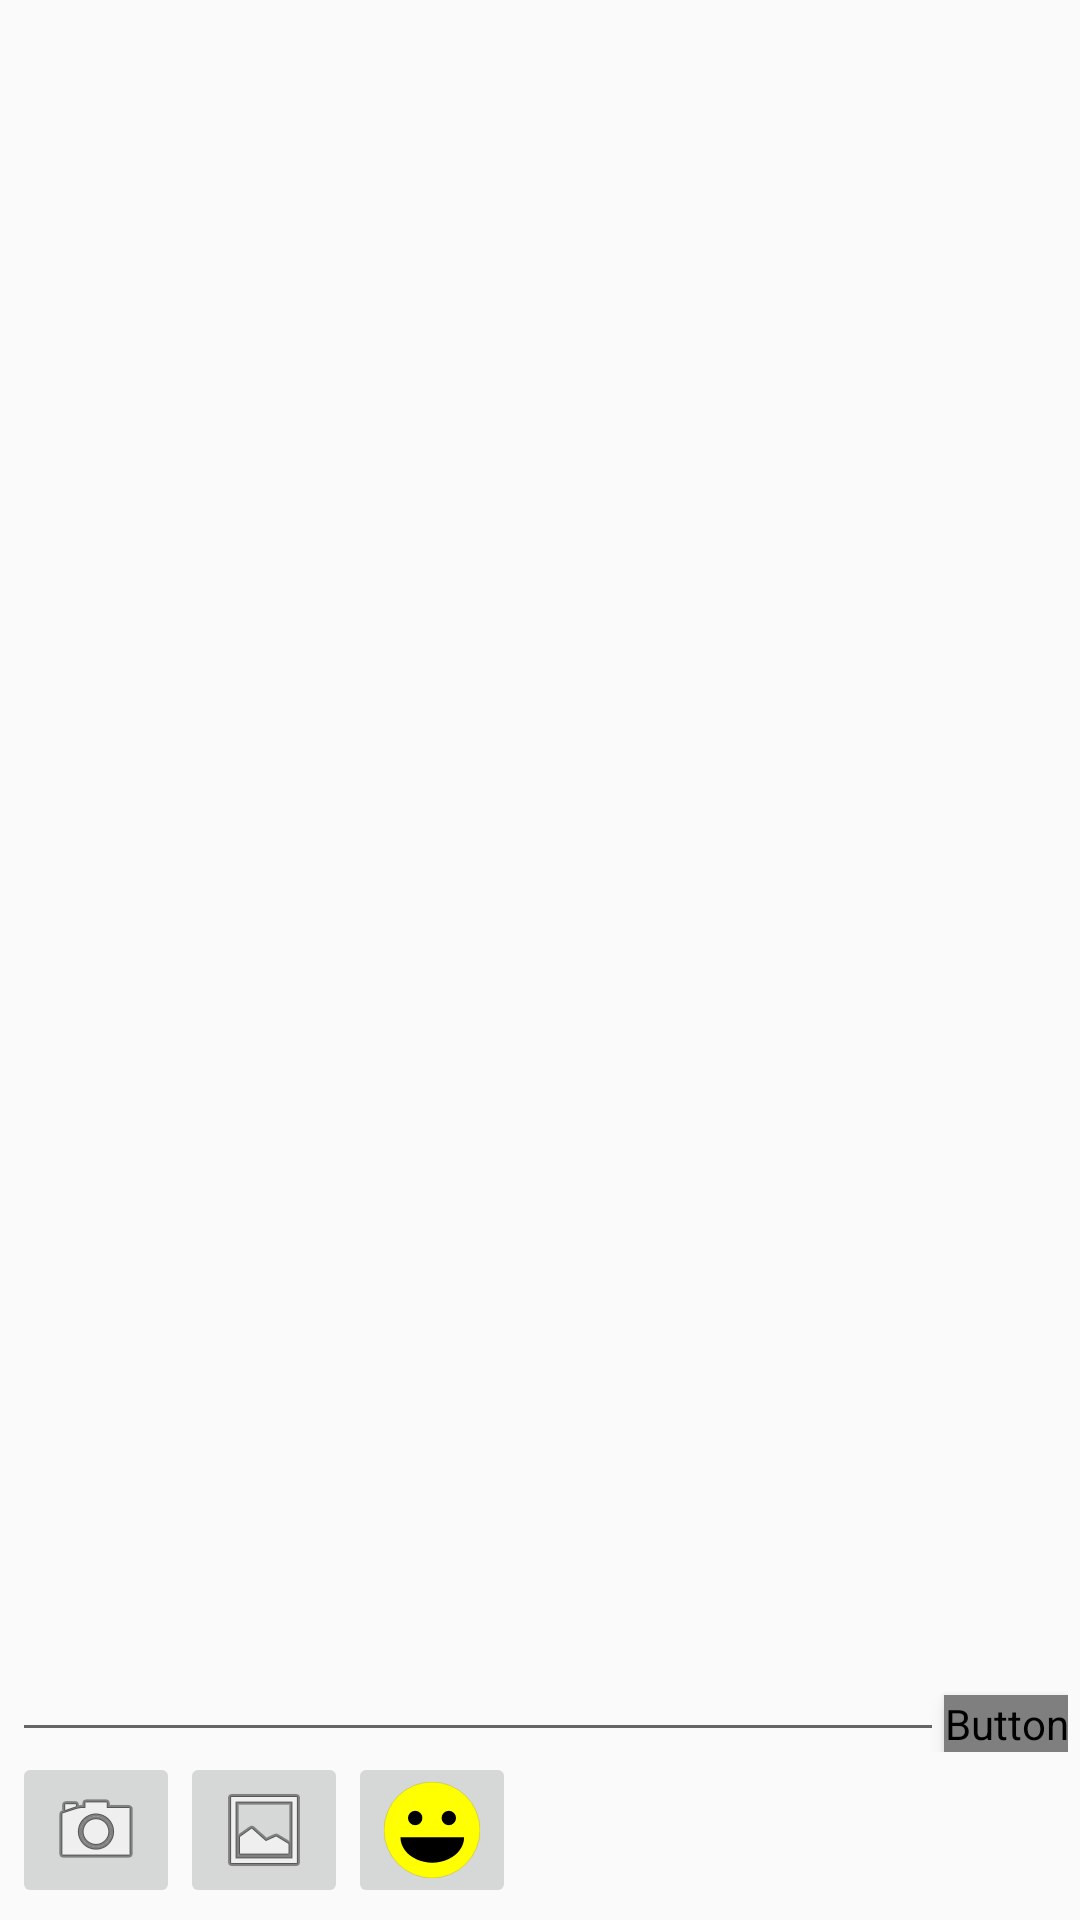

Icon bounding boxes for this 1080 × 1920 phone screenshot, format BBox(x1, y1, x2, y2):
Camera: BBox(24, 1770, 168, 1890)
Emoji: BBox(360, 1770, 504, 1890)
gallery: BBox(192, 1770, 336, 1890)
